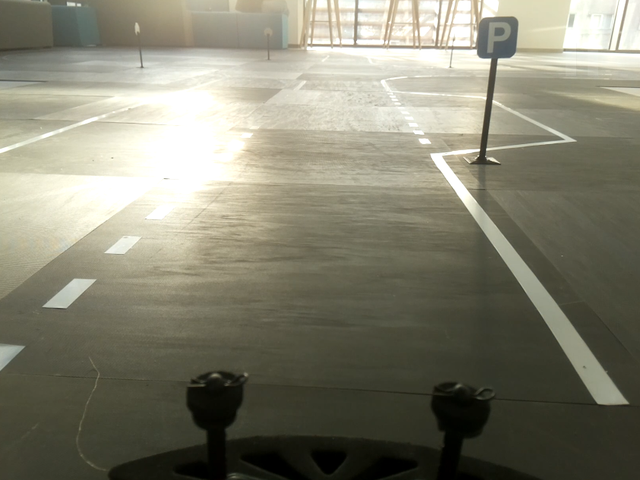parking: (476, 16, 518, 59)
